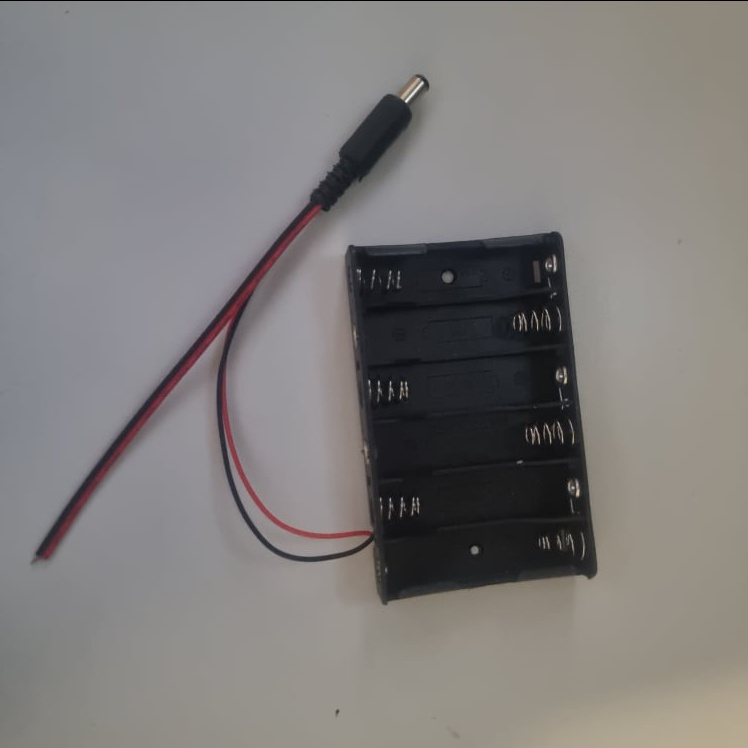BATTERY BOX: (342, 229, 599, 611)
